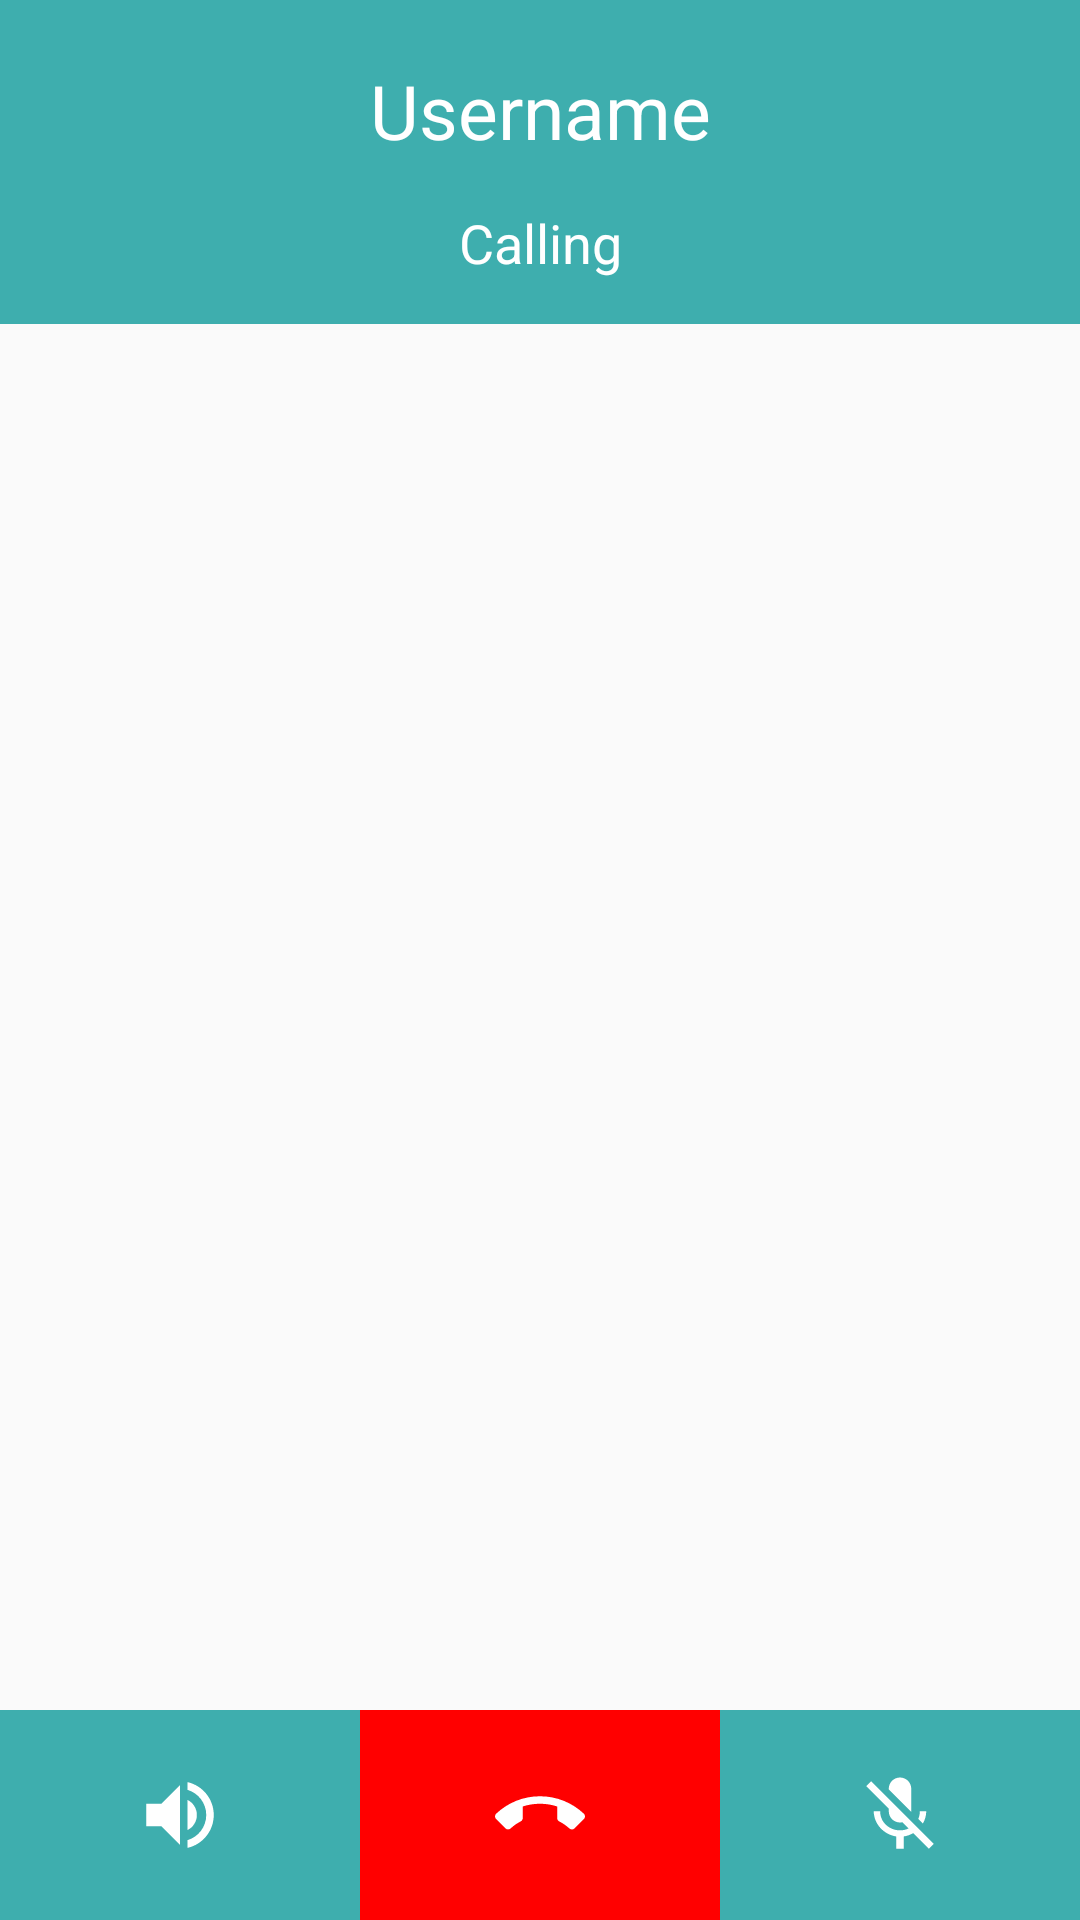

Named icons in this screenshot (1080x1920) and their centers, (x,y):
call end: (540,1815)
mic: (900,1815)
volume: (180,1815)
